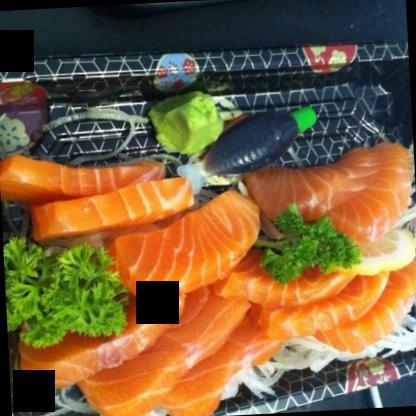salmon: (80, 289, 254, 415), (108, 189, 266, 306), (240, 154, 414, 246), (15, 297, 186, 387), (257, 263, 415, 354), (214, 234, 358, 310), (0, 144, 166, 206), (26, 176, 194, 236)
